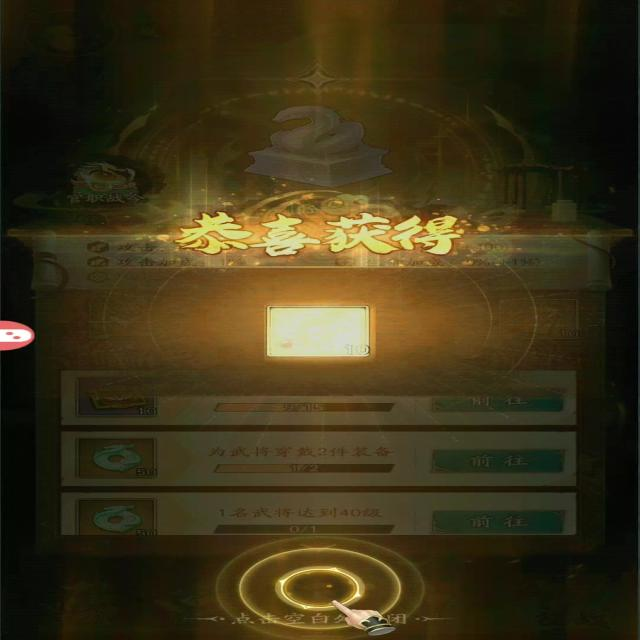hint-guide: (213, 595, 419, 633)
